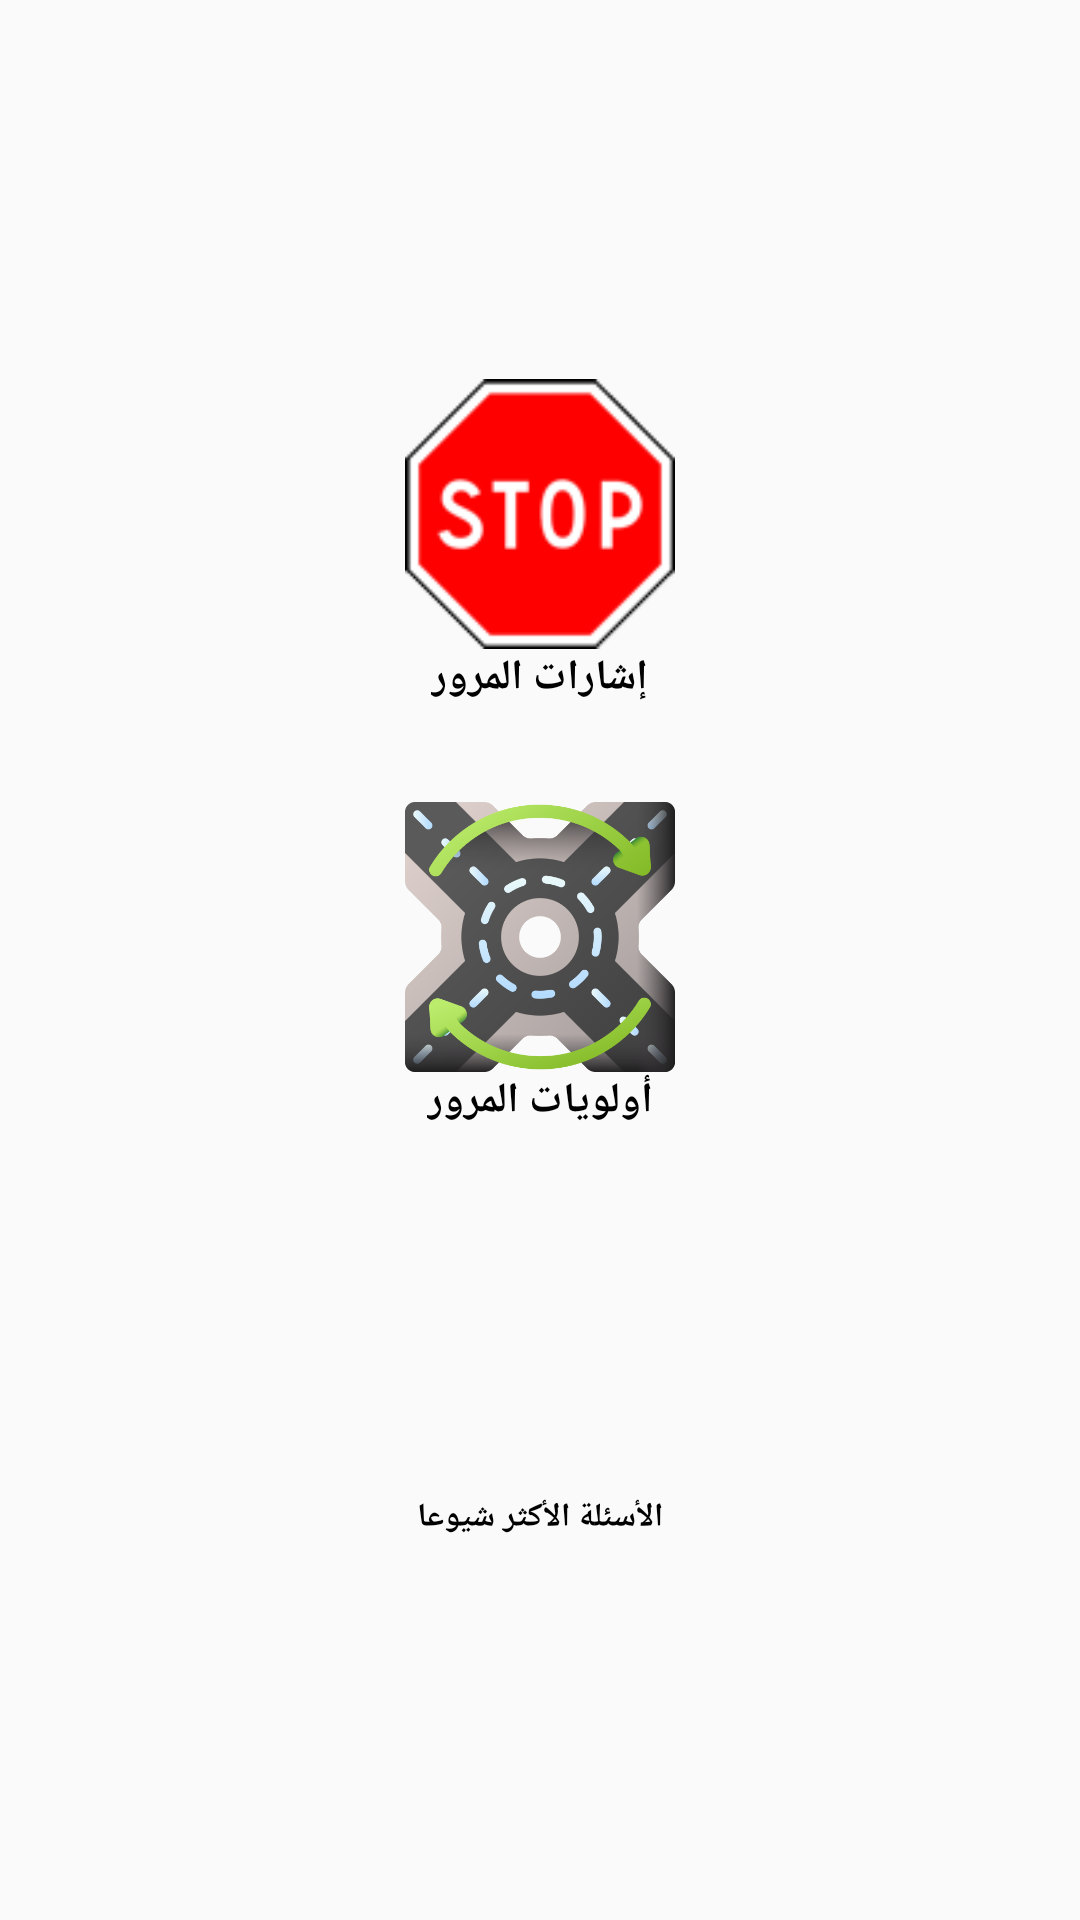

Screen size 1080w x 1920h. Icon name, then its box in pixels as bbox=[x1, y1, x2, y2]:
intersectionicon: bbox=[405, 802, 675, 1072]
